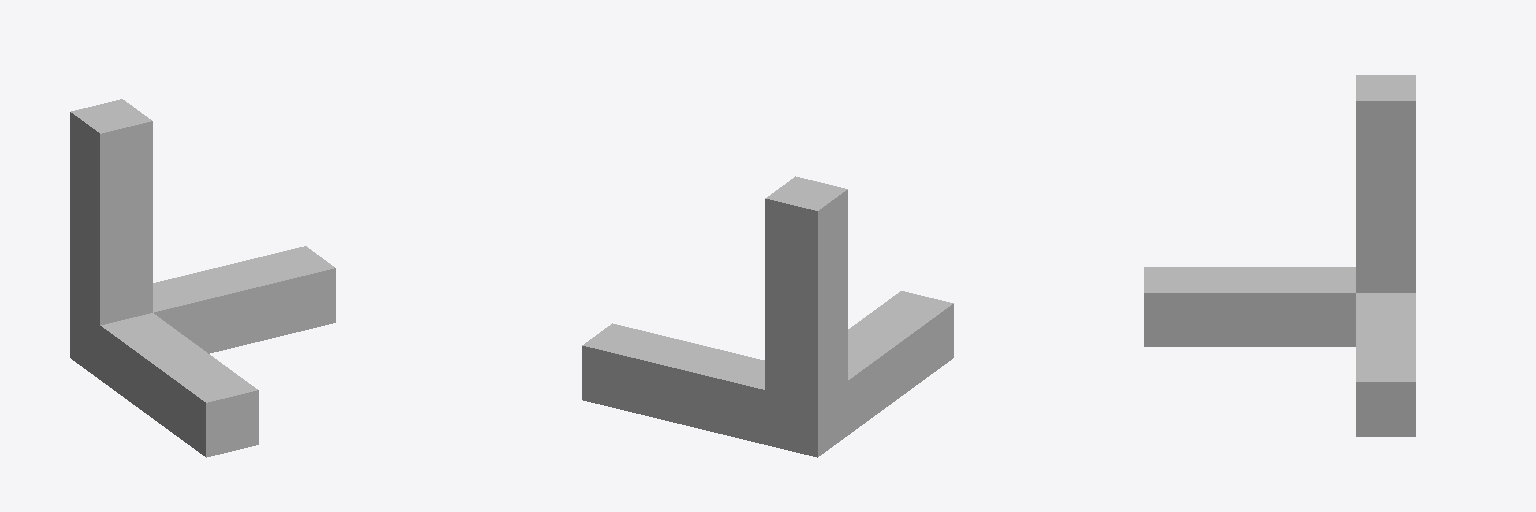
The model's file is AABB.obj.
The picture shows the model from 3 angles: view 1: azimuth 30°, elevation 25°; view 2: azimuth 150°, elevation 25°; view 3: azimuth 270°, elevation 25°; orthographic projection.
Visible parts, largest first — view 1: Cube; view 2: Cube; view 3: Cube.
Boxes of the visible parts, box(x1,y1,x2,y2) form: Cube: box(70, 99, 335, 457); Cube: box(582, 176, 953, 457); Cube: box(1144, 75, 1415, 436).
Size of the model in its own units: 9 by 9 by 9.